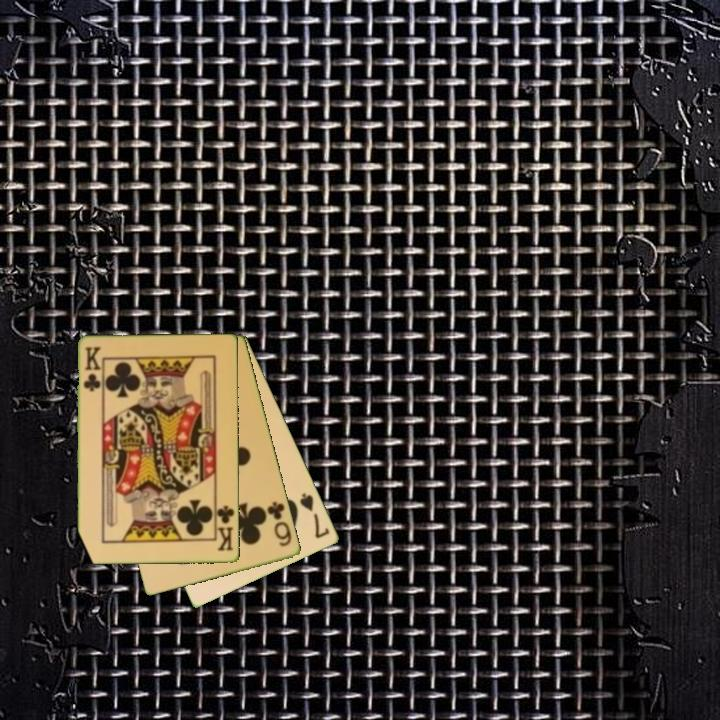6c: (264, 498, 295, 550)
7s: (297, 490, 333, 542)
Kc: (213, 500, 238, 554), (80, 343, 103, 394)
